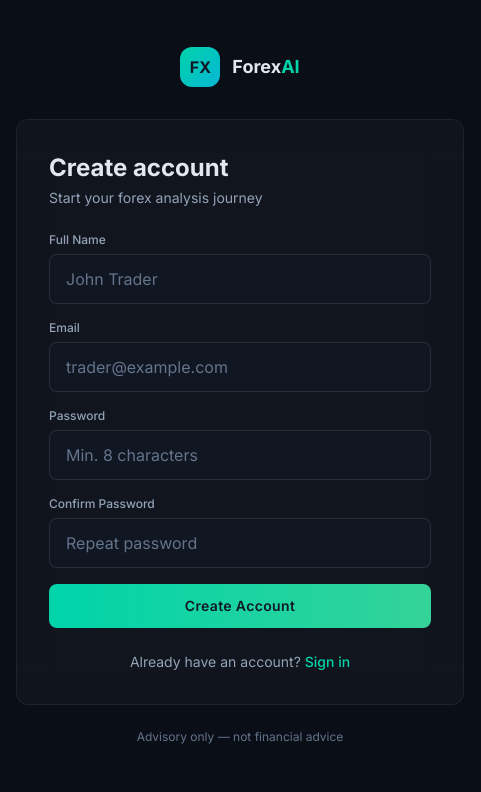
Test: auth flow › register: validates password mismatch before submitting
In the field with placeholder "John Trader": (240, 279) [49,254,431,304], type "Jane"
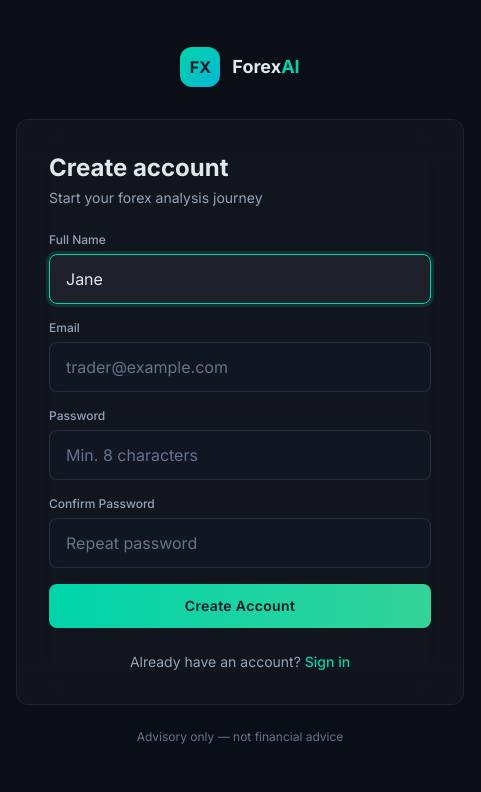
In the field with placeholder "trader@example.com": (240, 367) [49,342,431,392], type "jane@example.com"
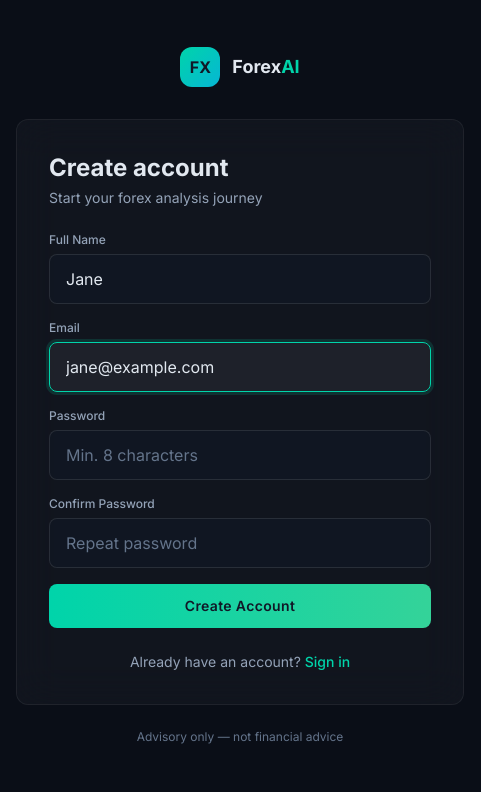
In the password field with placeholder "Min. 8 characters": (240, 455) [49,430,431,480], type "password123"
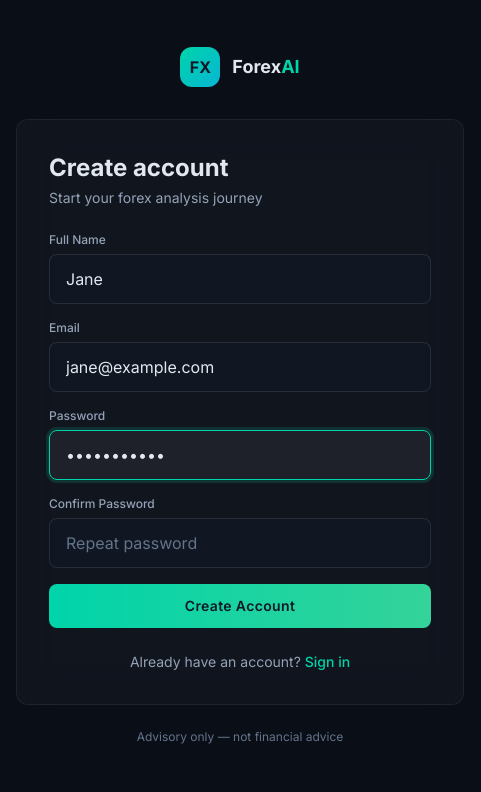
In the password field with placeholder "Repeat password": (240, 543) [49,518,431,568], type "different123"
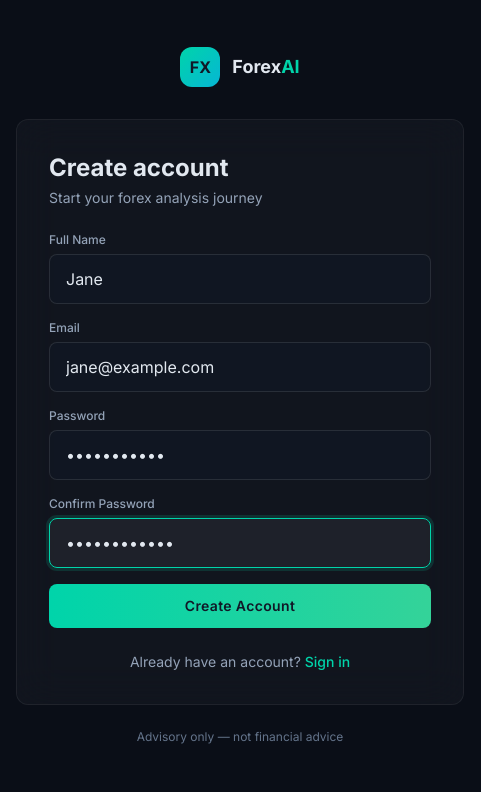
Click the button "Create Account": click(240, 606) [49,584,431,628]
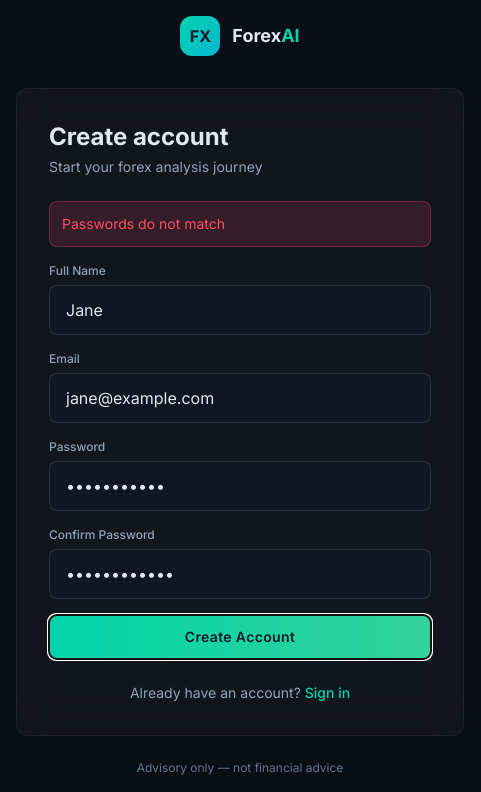
Expected: the text "Passwords do not match" is shown, [49,201,431,247]
